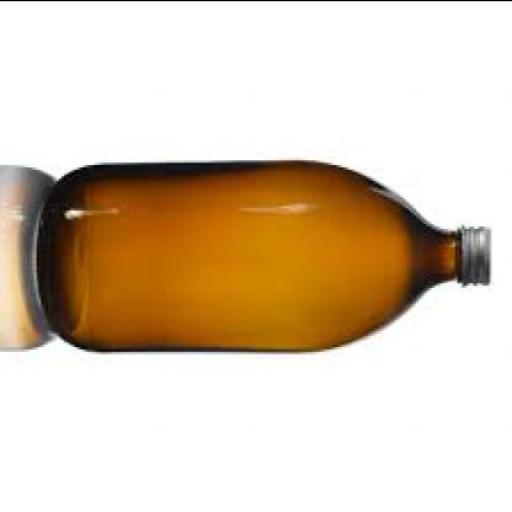glass: (39, 159, 462, 351)
metal: (460, 223, 496, 282)
